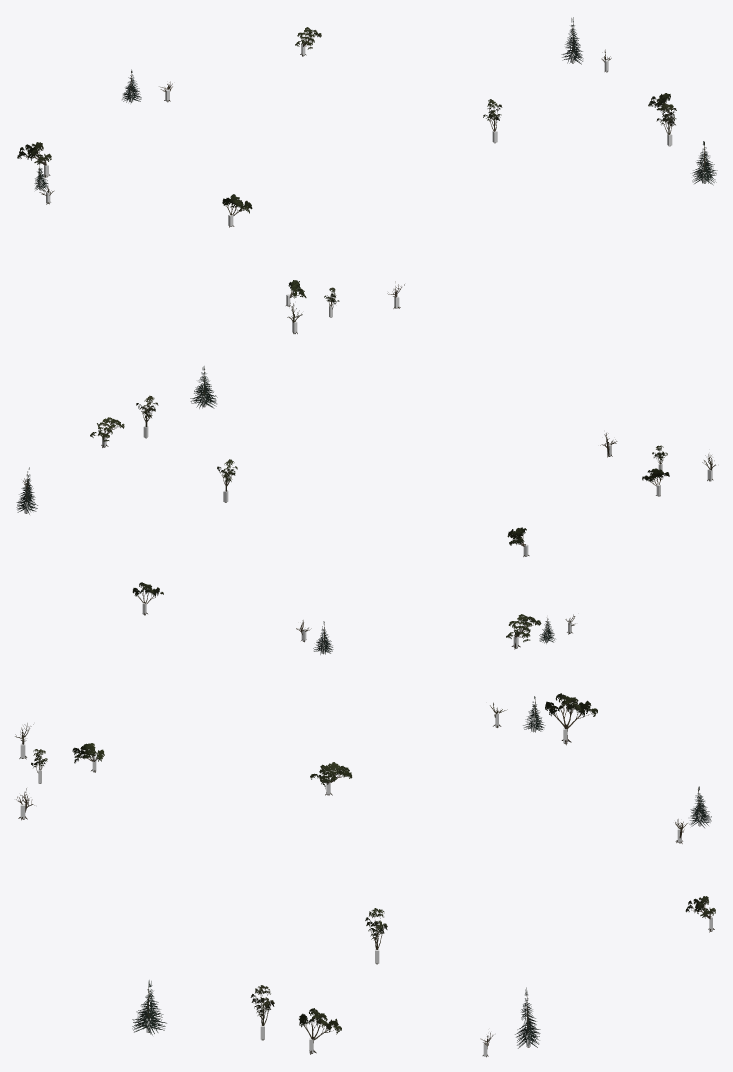
File: dress_trees_tex.glb
The picture shows the model from 3 angles, top to bottom: view 1: azimuth 30°, elevation 25°; view 2: azimuth 150°, elevation 25°; view 3: azimuth 270°, elevation 25°; orthographic projection. The views are drawn at different scales.
Parts seen in each view (by area): view 1: trees_leaves, trees_bark; view 2: trees_leaves, trees_bark; view 3: trees_leaves, trees_bark.
Boxes of the visible parts, x1,y1,x2,y2 form: trees_leaves: (17, 17, 717, 304); trees_bark: (25, 19, 705, 333); trees_leaves: (16, 366, 669, 654); trees_bark: (22, 368, 715, 649); trees_leaves: (31, 693, 715, 1048); trees_bark: (15, 698, 714, 1057).
Bounding box in the file's own units: 140 × 12.07 × 123.
2 materials, 2 textured.
